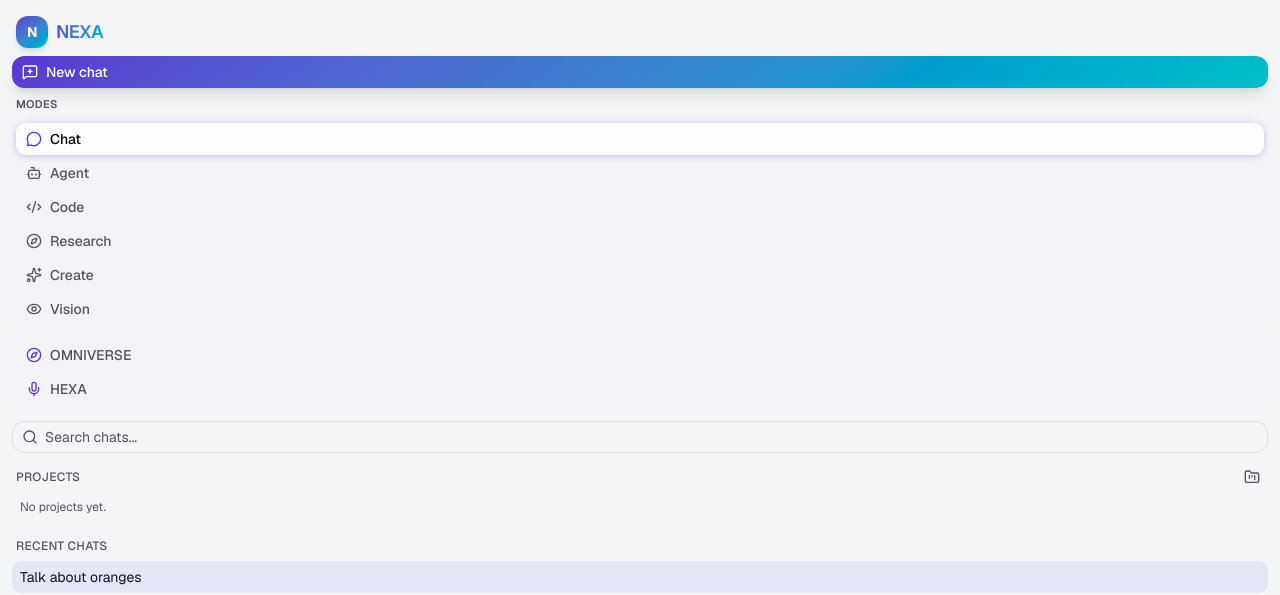
Sidebar › filters chats by the search box
The width and height of the screenshot is (1280, 595).
In the field named "Search chat history": (640, 436) [12,420,1268,452], type "apples"
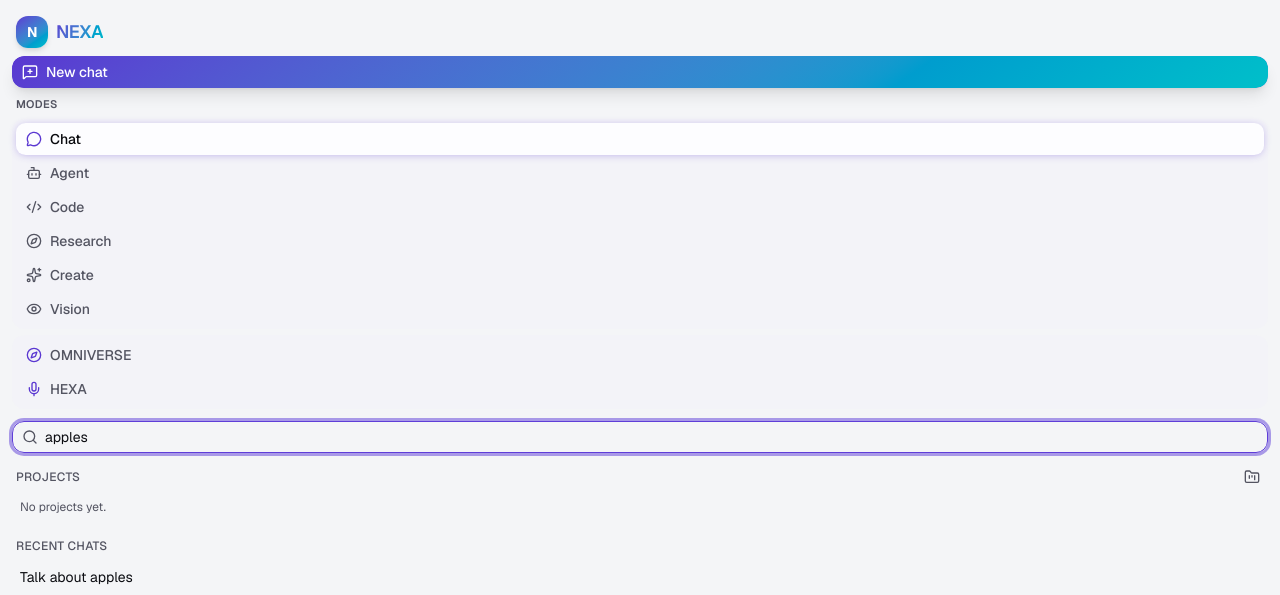
Expected: the text "Talk about apples" is shown, [20,566,133,586]
Expected: the button "Talk about oranges" is gone
